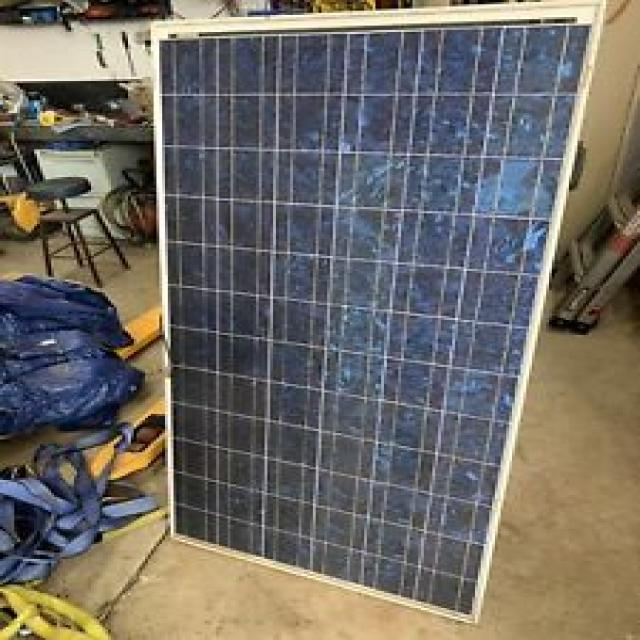dust-solar-panel: (158, 27, 594, 618)
